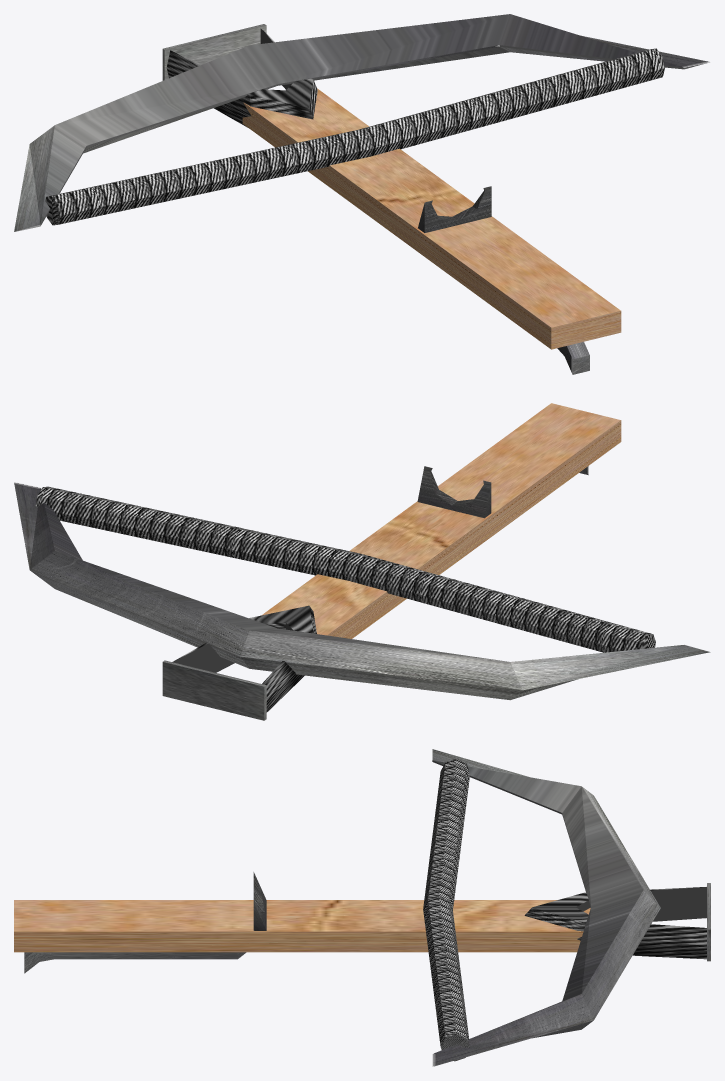
File: Crossbow5.obj
3 views of the same model, one above another, from view 1: azimuth 30°, elevation 25°; view 2: azimuth 150°, elevation 25°; view 3: azimuth 270°, elevation 25° (orthographic). The views are drawn at different scales.
Parts seen in each view (by area): view 1: Sphere; view 2: Sphere; view 3: Sphere.
Boxes of the visible parts, box(x1,y1,x2,y2) form: Sphere: box(14, 14, 710, 374); Sphere: box(14, 403, 710, 720); Sphere: box(14, 749, 710, 1066).
Bounding box in the file's own units: 5.04 × 0.6142 × 4.67.
